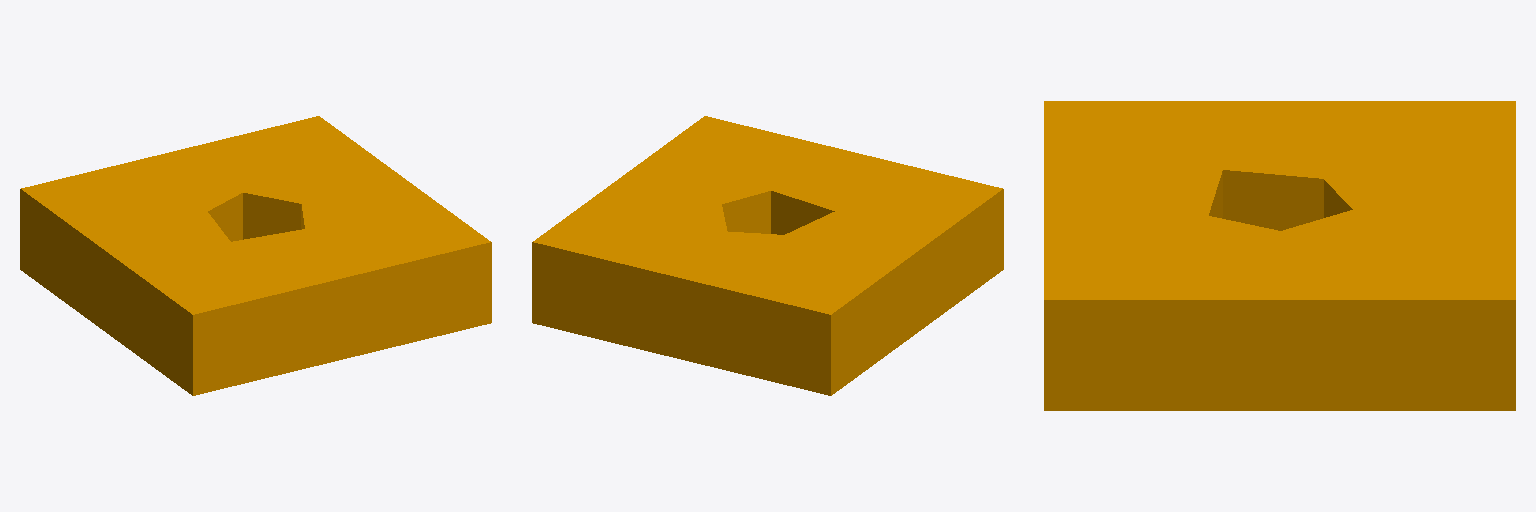
URDF robot description (socket_asymmetric):
<?xml version='1.0' encoding='utf-8'?>
<robot name="socket_asymmetric">
  <link name="body">
    <inertial>
      <origin xyz="2.543736335845918e-05 0.00011606865491843357 0.025689357656564837" />
      <mass value="0.6" />
      <inertia ixx="0.002233561160082068" iyy="0.0022340752124845467" izz="0.004193872976718782" ixy="6.615208177547334e-07" ixz="-9.63156613891233e-08" iyz="-4.394806610842539e-07" />
    </inertial>
    <collision>
      <geometry>
        <mesh filename="part_00.obj" />
      </geometry>
    </collision>
    <collision>
      <geometry>
        <mesh filename="part_01.obj" />
      </geometry>
    </collision>
    <collision>
      <geometry>
        <mesh filename="part_02.obj" />
      </geometry>
    </collision>
    <collision>
      <geometry>
        <mesh filename="part_03.obj" />
      </geometry>
    </collision>
    <collision>
      <geometry>
        <mesh filename="part_04.obj" />
      </geometry>
    </collision>
    <collision>
      <geometry>
        <mesh filename="part_05.obj" />
      </geometry>
    </collision>
    <visual>
      <geometry>
        <mesh filename="visual.obj" />
      </geometry>
    </visual>
  </link>
</robot>

--- Facts derived from the render (not from the file) ---
Views: 3 orthographic renders of the robot side by side, from view 1: azimuth 30°, elevation 25°; view 2: azimuth 150°, elevation 25°; view 3: azimuth 270°, elevation 25°.
Model socket_asymmetric with 1 links and 0 joints (none), rooted at body, posed all joints at 0.
Visible links, largest first — view 1: body; view 2: body; view 3: body.
Boxes of the visible links, left/top/right/bottom form: body: left=20, top=116, right=491, bottom=395; body: left=532, top=116, right=1003, bottom=395; body: left=1044, top=101, right=1515, bottom=410.
Bounding box of the posed robot: 0.2 × 0.2 × 0.052 m (x, y, z).
Meshes: 1 distinct files referenced, 1 mesh visuals loaded (1 OBJ).
